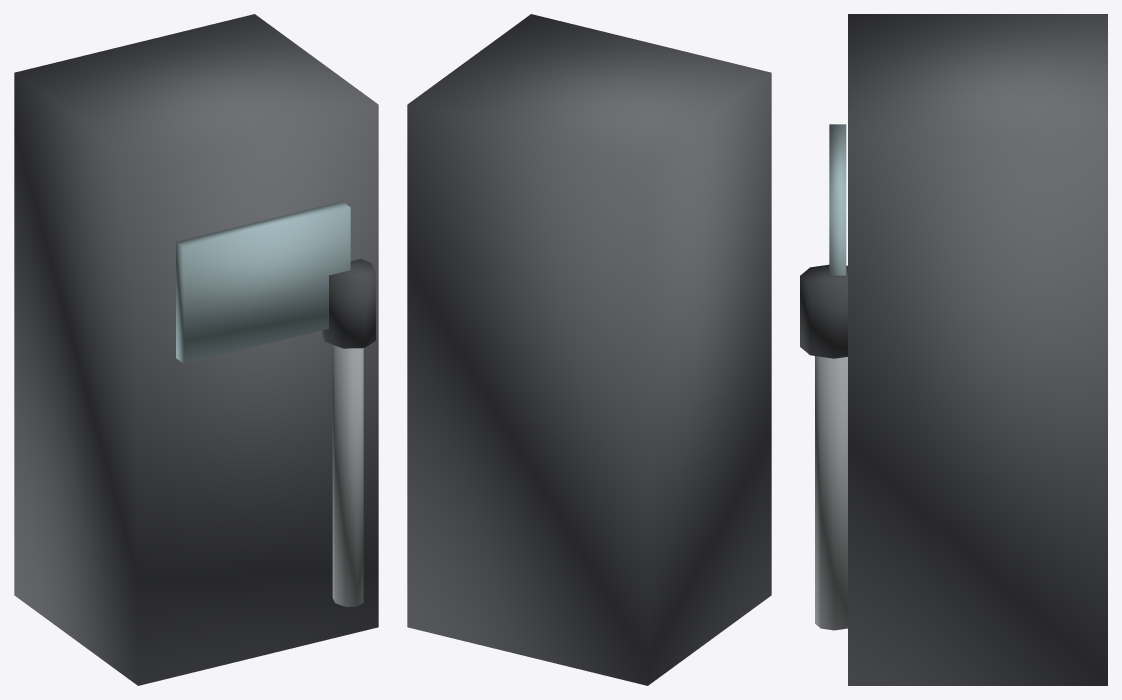
The model's file is karaoke_terminal__deep.glb.
3 views of the same model, side by side, from view 1: azimuth 30°, elevation 25°; view 2: azimuth 150°, elevation 25°; view 3: azimuth 270°, elevation 25° (orthographic). The views are drawn at different scales.
Visible parts, largest first — view 1: world; view 2: world; view 3: world.
Boxes of the visible parts, left/top/right/bottom form: world: left=14, top=14, right=378, bottom=685; world: left=407, top=14, right=771, bottom=685; world: left=800, top=14, right=1107, bottom=685.
Bounding box in the file's own units: 0.52 × 1.08 × 0.549.
